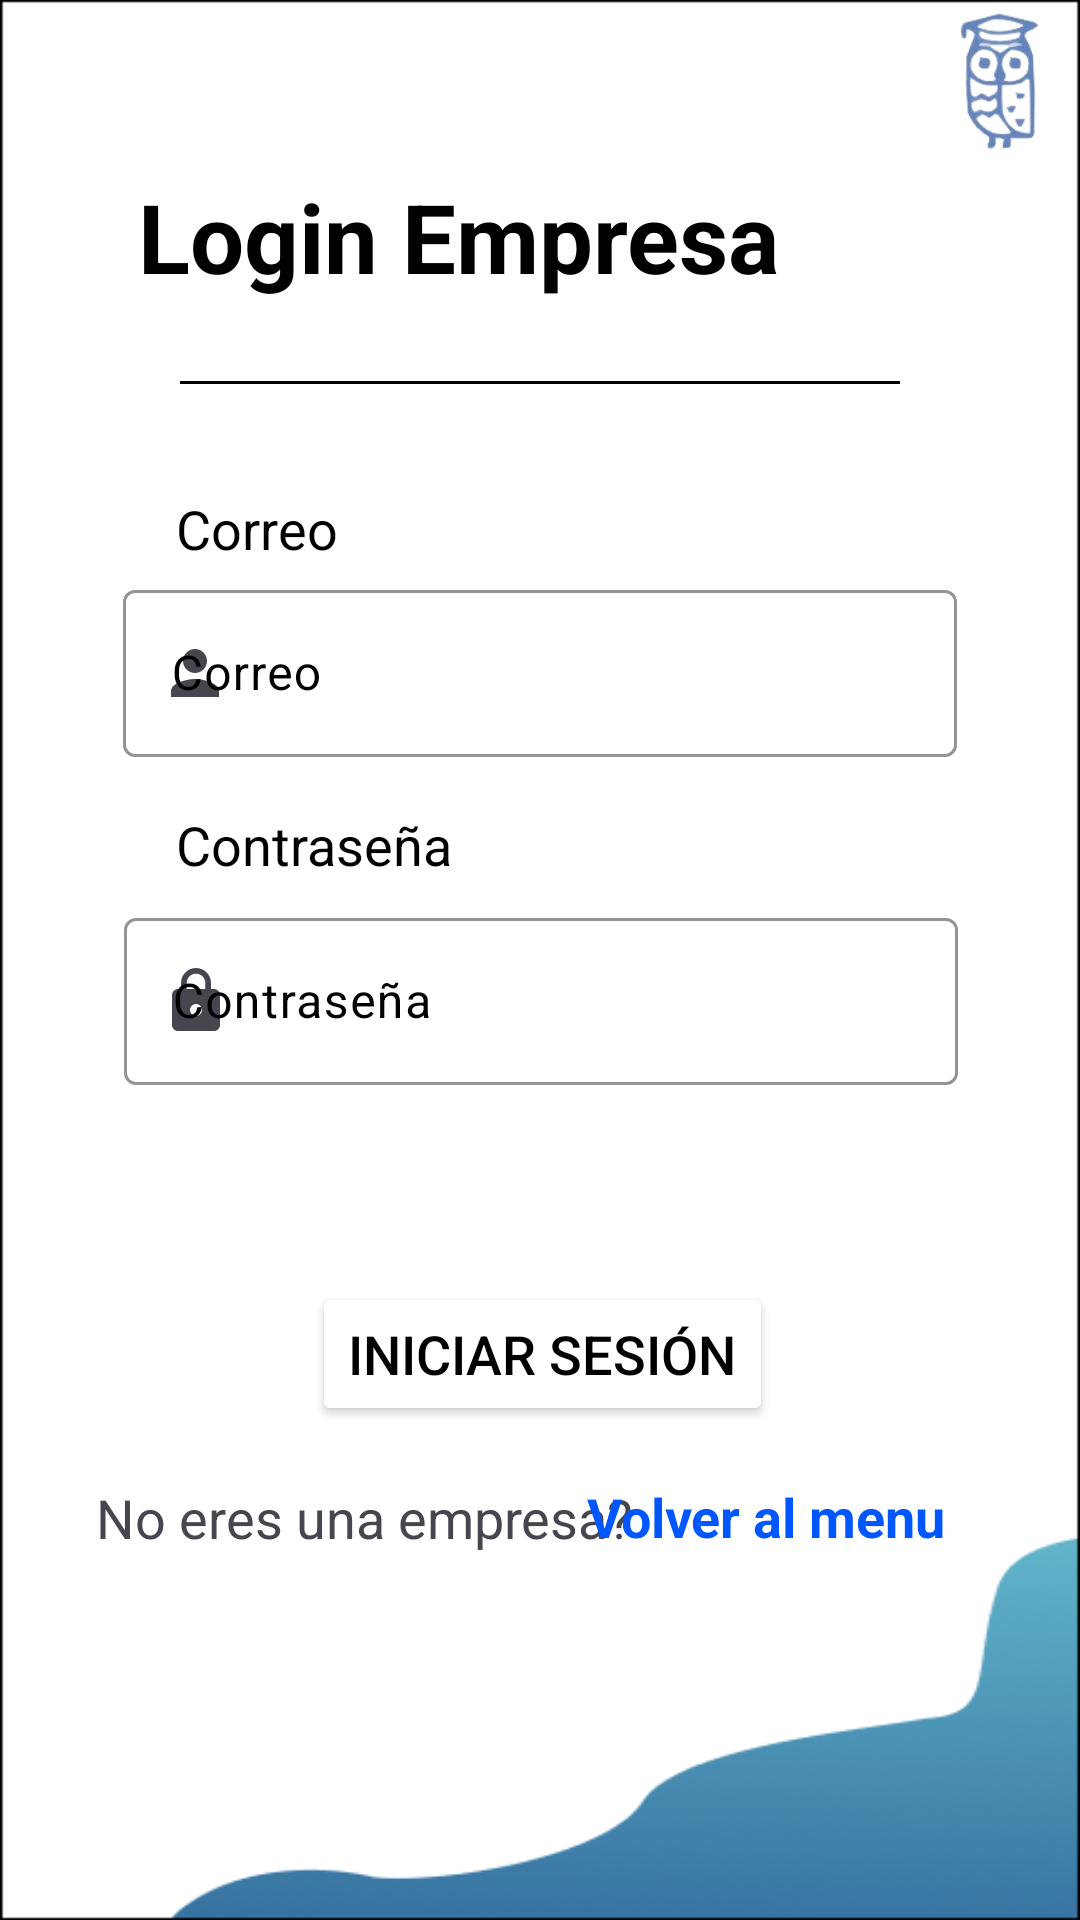

Point at icon controls on the screen. Image size 1080×1920, points as (x,y).
buho: (999,81)
